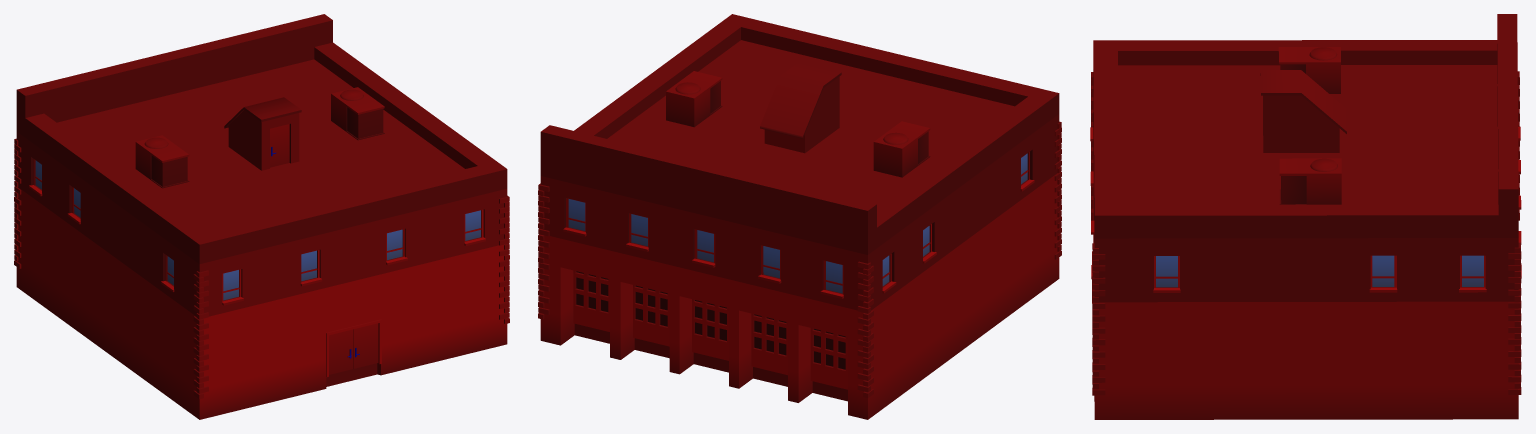
Rendered from Mesh.FireStation.fbx.
3 renders of one model, left to right at view 1: azimuth 30°, elevation 25°; view 2: azimuth 150°, elevation 25°; view 3: azimuth 270°, elevation 25°, orthographic. The views are drawn at different scales.
Visible parts, largest first — view 1: base.069, windowRefl.051; view 2: base.069, windowRefl.051; view 3: base.069, windowRefl.051.
Part boxes in pixels (x1=…): base.069: x1=14, y1=14, x2=509, y2=419; windowRefl.051: x1=35, y1=160, x2=480, y2=300; base.069: x1=538, y1=14, x2=1061, y2=419; windowRefl.051: x1=568, y1=153, x2=1027, y2=293; base.069: x1=1090, y1=14, x2=1521, y2=419; windowRefl.051: x1=1156, y1=255, x2=1483, y2=287.
Size of the model in its own units: 2389 by 2327 by 1532.
